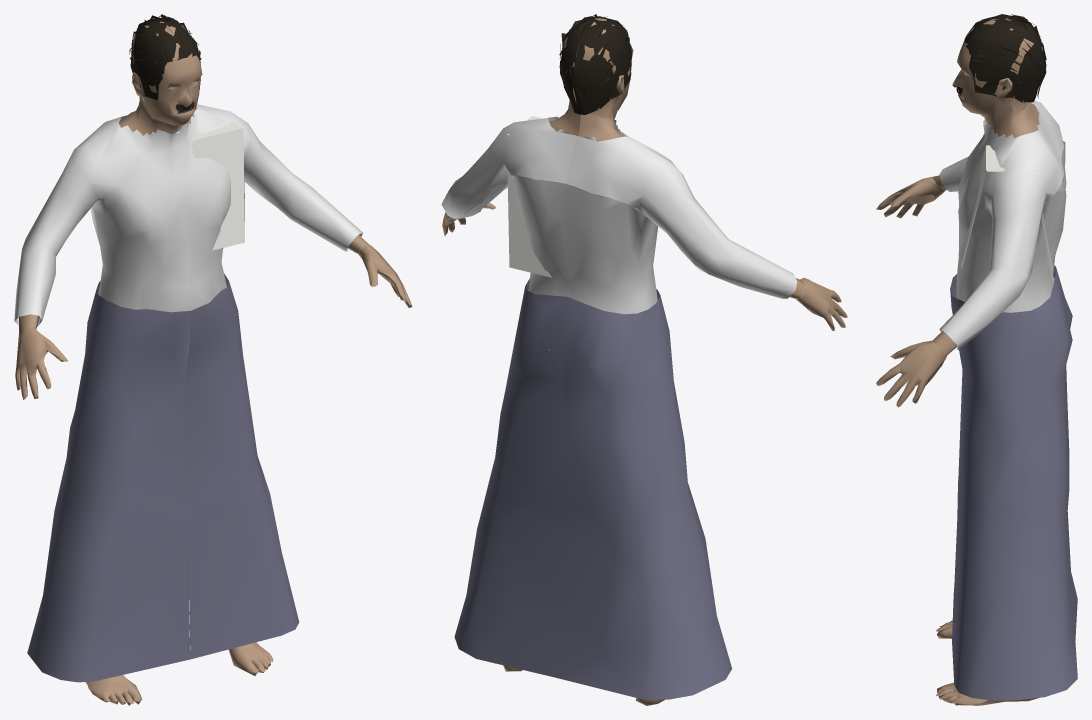
The model's file is man_06.glb.
3 views of the same model, side by side, from view 1: azimuth 30°, elevation 25°; view 2: azimuth 150°, elevation 25°; view 3: azimuth 270°, elevation 25° (orthographic). The views are drawn at different scales.
Visible parts, largest first — view 1: crowd; view 2: crowd; view 3: crowd.
Part boxes in pixels (x1,y1,x2,y2): crowd: (14, 14, 412, 705); crowd: (441, 14, 847, 705); crowd: (876, 14, 1077, 705).
Size of the model in its own units: 1.07 by 1.7 by 0.4794.
